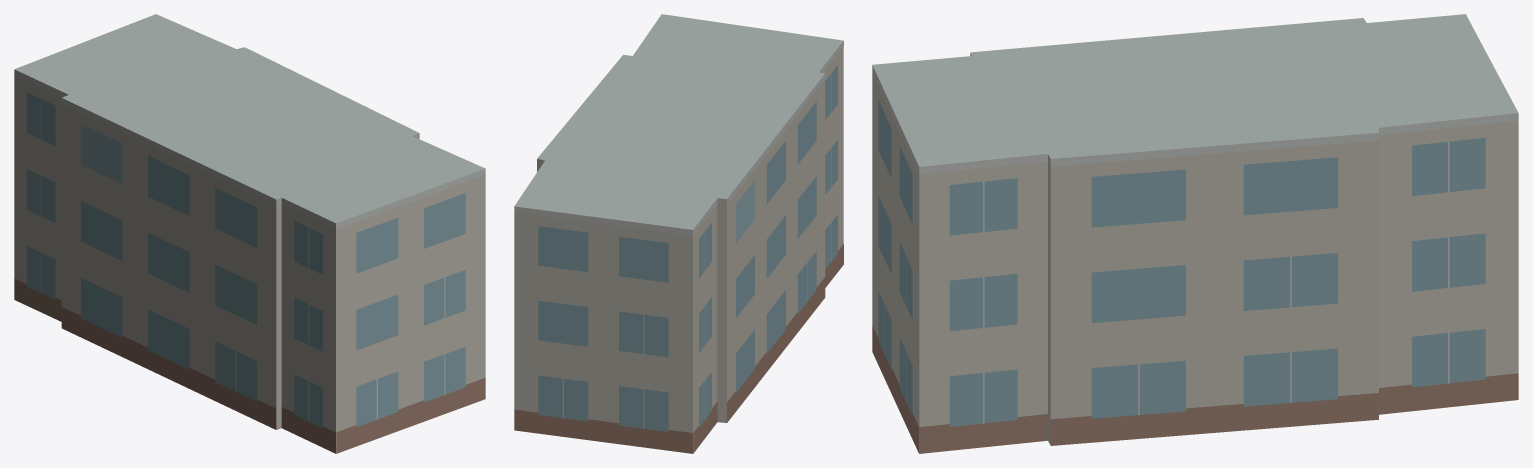
The model's file is survey-upis-32696816.glb.
3 renders of one model, left to right at view 1: azimuth 30°, elevation 25°; view 2: azimuth 150°, elevation 25°; view 3: azimuth 270°, elevation 25°, orthographic. The views are drawn at different scales.
Visible parts, largest first — view 1: survey-upis-32696816.tmp; view 2: survey-upis-32696816.tmp; view 3: survey-upis-32696816.tmp.
Part boxes in pixels (box(x1,y1,x2,y2)): survey-upis-32696816.tmp: box(14, 14, 485, 453); survey-upis-32696816.tmp: box(514, 14, 843, 453); survey-upis-32696816.tmp: box(872, 14, 1518, 453).
Bounding box in the file's own units: 10.48 × 9.15 × 18.69.
